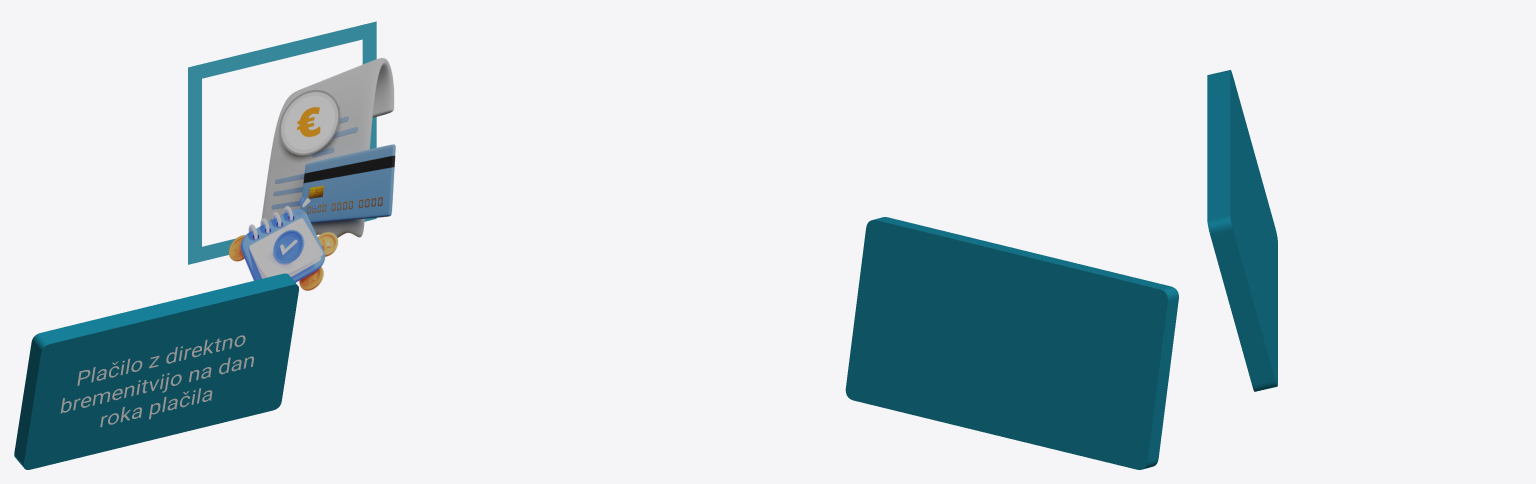
The picture shows the model from 3 angles, left to right: view 1: azimuth 30°, elevation 25°; view 2: azimuth 150°, elevation 25°; view 3: azimuth 270°, elevation 25°; orthographic projection. The views are drawn at different scales.
Parts seen in each view (by area): view 1: Rectangle - DB, znesek.png, dobavitelj (2).png, znesek (3).png, znesek (2).png, DB - rok plačila; view 2: Rectangle - DB; view 3: Rectangle - DB.
Boxes of the visible parts, left/top/right/bottom form: Rectangle - DB: left=14, top=273, right=298, bottom=469; znesek.png: left=261, top=58, right=395, bottom=237; dobavitelj (2).png: left=188, top=21, right=376, bottom=264; znesek (3).png: left=228, top=197, right=338, bottom=290; znesek (2).png: left=279, top=90, right=340, bottom=159; DB - rok plačila: left=60, top=335, right=253, bottom=427; Rectangle - DB: left=845, top=217, right=1178, bottom=469; Rectangle - DB: left=1207, top=70, right=1277, bottom=391.
Bounding box in the file's own units: 53.1 × 32.09 × 24.57.
Materials: 6 (4 with a texture image).
